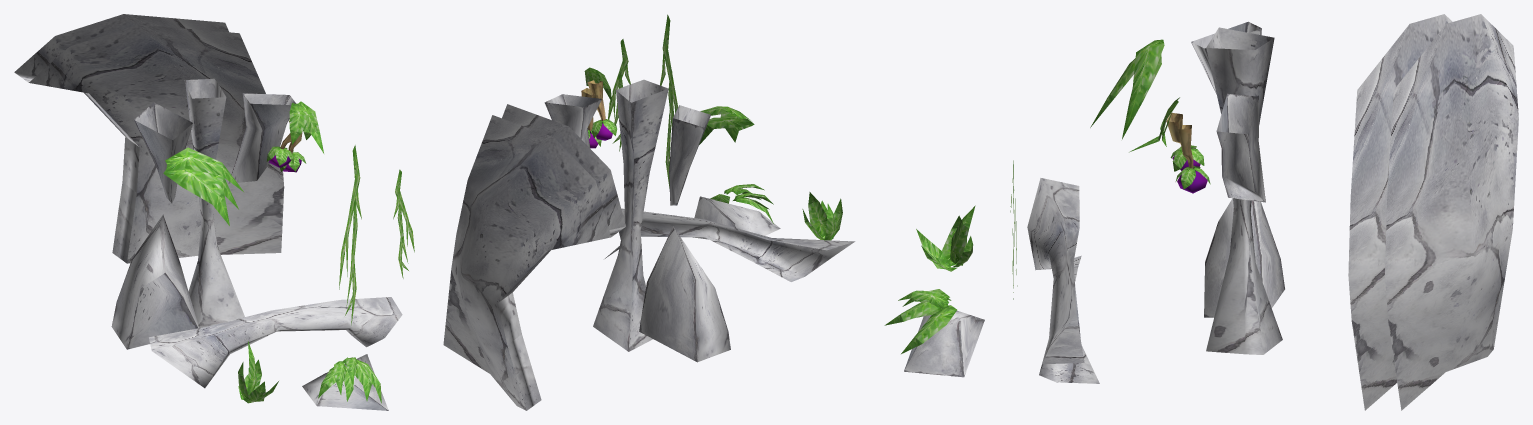
The model's file is newCavernAssets.fbx.
3 views of the same model, side by side, from view 1: azimuth 30°, elevation 25°; view 2: azimuth 150°, elevation 25°; view 3: azimuth 270°, elevation 25° (orthographic). The views are drawn at different scales.
Parts seen in each view (by area): view 1: cavernWallRight, cavernStoneCrawl, cavernStone2, cavernStoneMiddle, cavernStone5, cavernPlants2, cavernStone4, cavernFruit, cavernStone1, cavernPlants1, cavernPlants3, cavernPlants4 (+1 smaller); view 2: cavernWallRight, cavernStoneMiddle, cavernStone2, cavernStoneCrawl, cavernStone4, cavernStone1, cavernStone5, cavernFruit, cavernPlants4, cavernPlants2, cavernPlants3, cavernPlants1 (+1 smaller); view 3: cavernWallRight, cavernStoneMiddle, cavernStoneCrawl, cavernStone5, cavernStone2, cavernStone1, cavernFruit, cavernPlants2, cavernPlants1, cavernPlants4, cavernStone4.
Boxes of the visible parts, x1=… form: cavernWallRight: x1=14, y1=14, x2=284, y2=263; cavernStoneCrawl: x1=149, y1=297, x2=402, y2=388; cavernStone2: x1=111, y1=214, x2=198, y2=349; cavernStoneMiddle: x1=184, y1=78, x2=244, y2=327; cavernStone5: x1=228, y1=93, x2=295, y2=183; cavernPlants2: x1=163, y1=147, x2=243, y2=225; cavernStone4: x1=134, y1=102, x2=192, y2=203; cavernFruit: x1=266, y1=101, x2=323, y2=172; cavernStone1: x1=302, y1=354, x2=388, y2=410; cavernPlants1: x1=318, y1=357, x2=381, y2=403; cavernPlants3: x1=339, y1=145, x2=361, y2=325; cavernPlants4: x1=238, y1=341, x2=278, y2=403; cavernWallRight: x1=443, y1=104, x2=625, y2=410; cavernStoneMiddle: x1=593, y1=79, x2=668, y2=351; cavernStone2: x1=639, y1=226, x2=730, y2=362; cavernStoneCrawl: x1=605, y1=208, x2=855, y2=281; cavernStone4: x1=669, y1=105, x2=710, y2=205; cavernStone1: x1=693, y1=196, x2=780, y2=239; cavernStone5: x1=544, y1=94, x2=601, y2=147; cavernFruit: x1=581, y1=67, x2=617, y2=148; cavernPlants4: x1=802, y1=192, x2=842, y2=240; cavernPlants2: x1=699, y1=106, x2=754, y2=144; cavernPlants3: x1=660, y1=14, x2=677, y2=188; cavernPlants1: x1=710, y1=184, x2=773, y2=223; cavernWallRight: x1=1348, y1=14, x2=1518, y2=410; cavernStoneMiddle: x1=1206, y1=27, x2=1282, y2=354; cavernStoneCrawl: x1=1027, y1=178, x2=1099, y2=383; cavernStone5: x1=1216, y1=93, x2=1265, y2=202; cavernStone2: x1=1204, y1=198, x2=1284, y2=317; cavernStone1: x1=904, y1=310, x2=984, y2=377; cavernFruit: x1=1129, y1=97, x2=1210, y2=193; cavernPlants2: x1=1090, y1=39, x2=1164, y2=139; cavernPlants1: x1=884, y1=289, x2=956, y2=353; cavernPlants4: x1=916, y1=205, x2=975, y2=271; cavernStone4: x1=1191, y1=21, x2=1261, y2=93.
Size of the model in its own units: 21.89 by 20.63 by 36.99.
